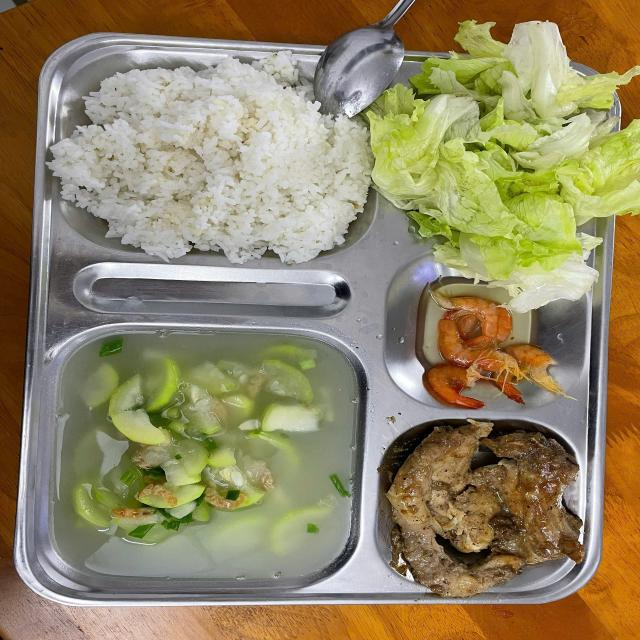canhbixanh: (56, 330, 348, 581)
salad: (71, 68, 357, 264)
san: (376, 49, 627, 257)
teprim: (386, 424, 595, 595)
thitcathom: (413, 281, 570, 412)
